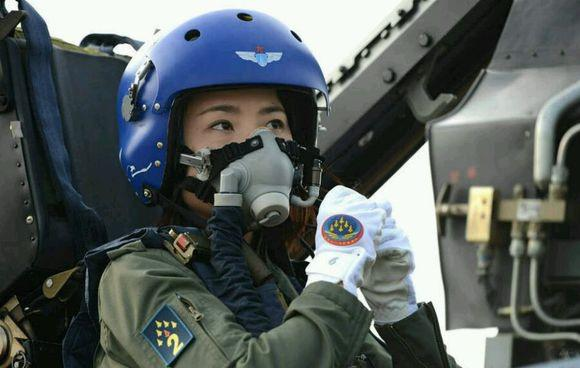OK: (191, 100, 307, 216)
